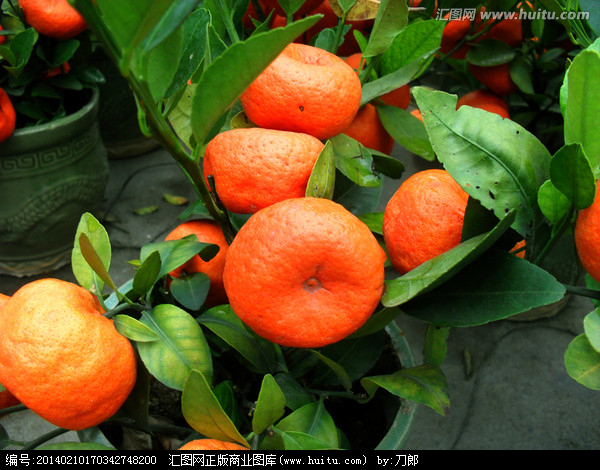orange: (225, 199, 383, 348), (1, 278, 133, 430), (381, 170, 532, 287), (201, 128, 332, 216), (239, 43, 360, 138), (160, 218, 234, 307), (15, 1, 93, 36)
